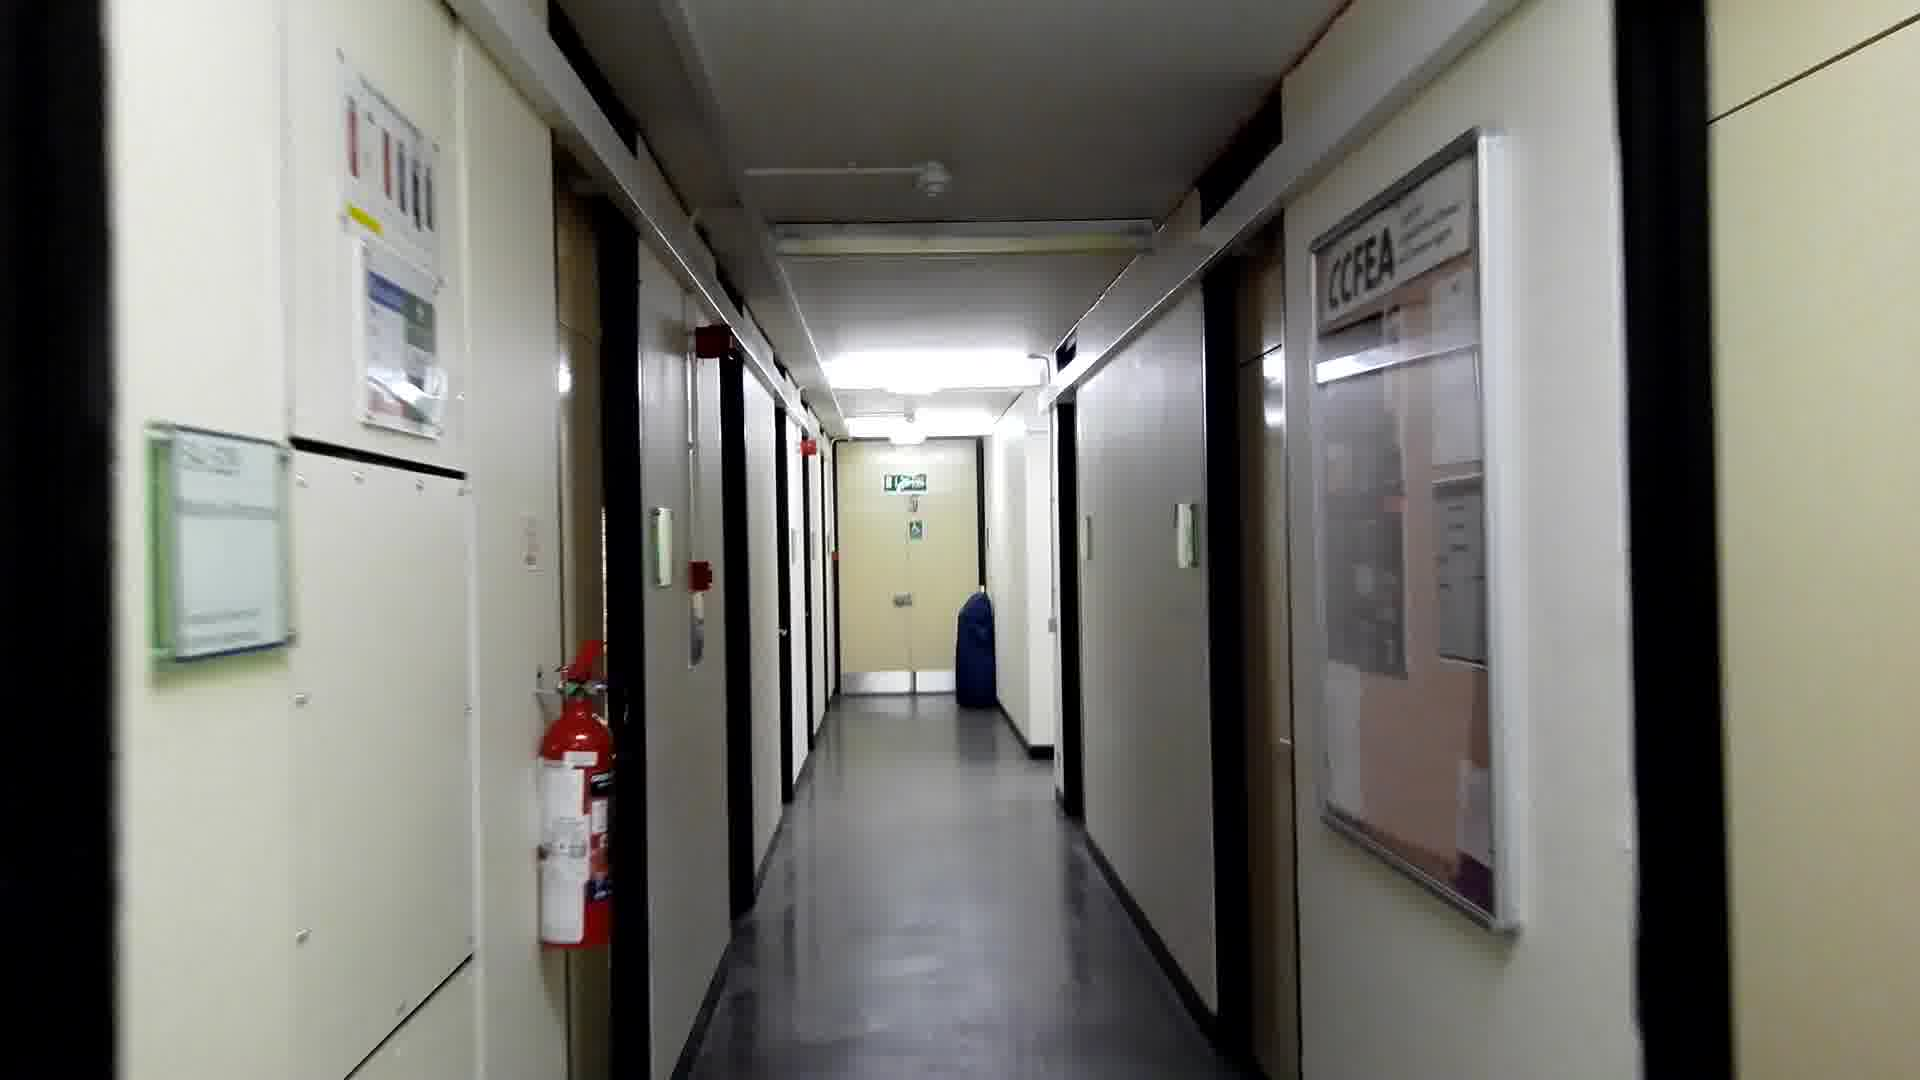Bin: (949, 585, 1004, 713)
Door: (1179, 146, 1316, 1069)
